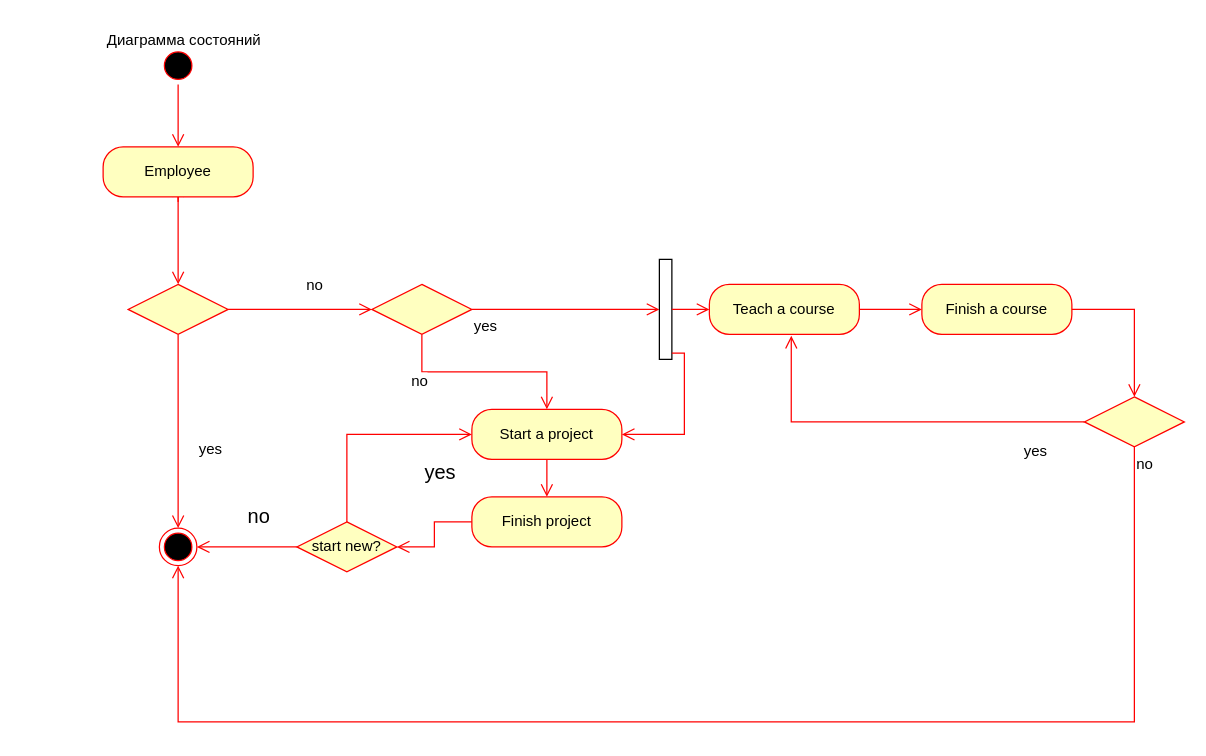
The diagram is 1206 pixels wide and 756 high, and some of its shapes have lost their labels. The shapes that lost their labels are listed below. From the top down, each one's centre as x and y in pixels, then its label:
[177,308]: Administrative Emp.?
[421,308]: is lecturer?
[1133,421]: Start a new course?
